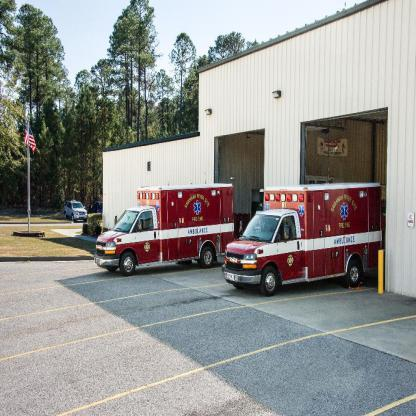Ambulance - v1 Ambulance last generate: (222, 183, 386, 293), (94, 186, 236, 276)
